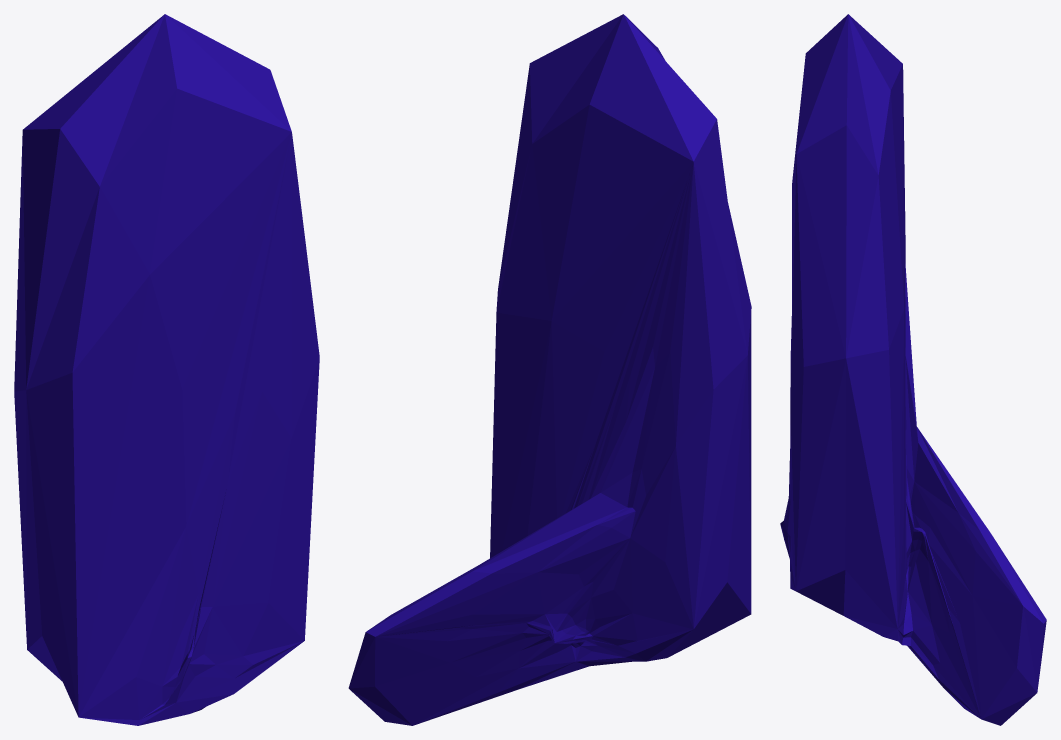
3 views of the same model, side by side, from view 1: azimuth 30°, elevation 25°; view 2: azimuth 150°, elevation 25°; view 3: azimuth 270°, elevation 25° (orthographic). The views are drawn at different scales.
Visible parts, largest first — view 1: 983_Cube.3966; view 2: 983_Cube.3966; view 3: 983_Cube.3966.
Part boxes in pixels (x1=…): 983_Cube.3966: x1=14, y1=14, x2=319, y2=725; 983_Cube.3966: x1=348, y1=14, x2=751, y2=725; 983_Cube.3966: x1=780, y1=14, x2=1046, y2=725.
Size of the model in its own units: 6.12 by 13.48 by 5.07.
